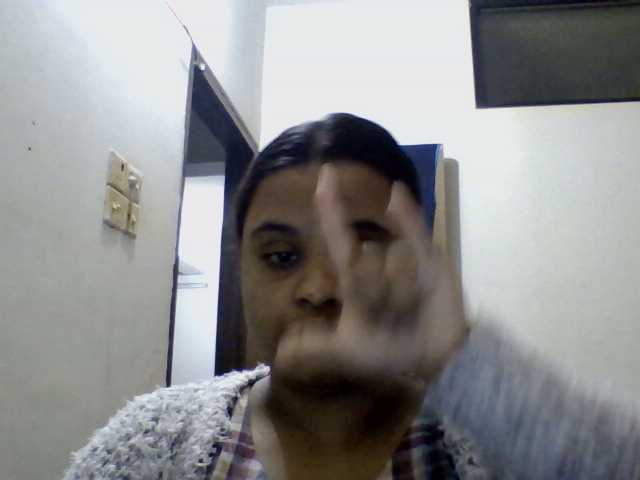I Love You: (232, 138, 539, 426)
